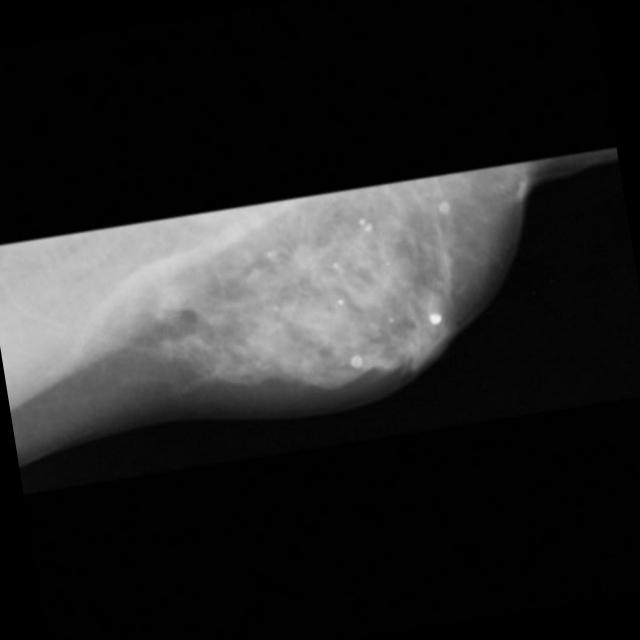SPIC: (268, 220, 336, 288)
